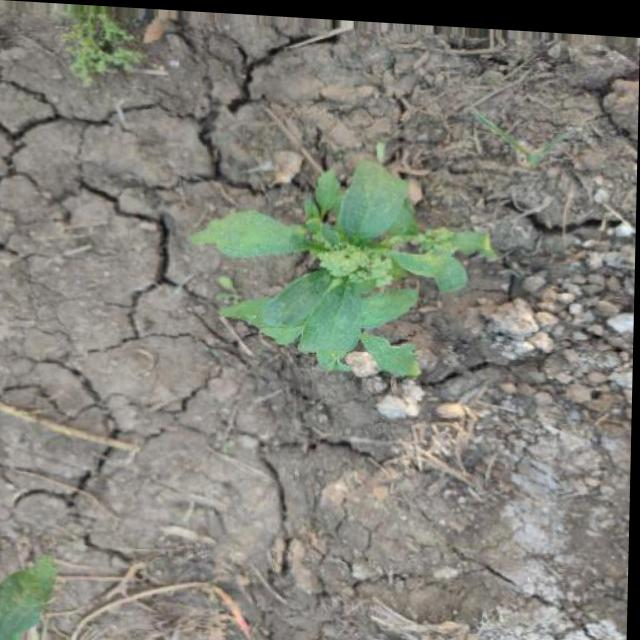weed: (186, 135, 500, 428)
